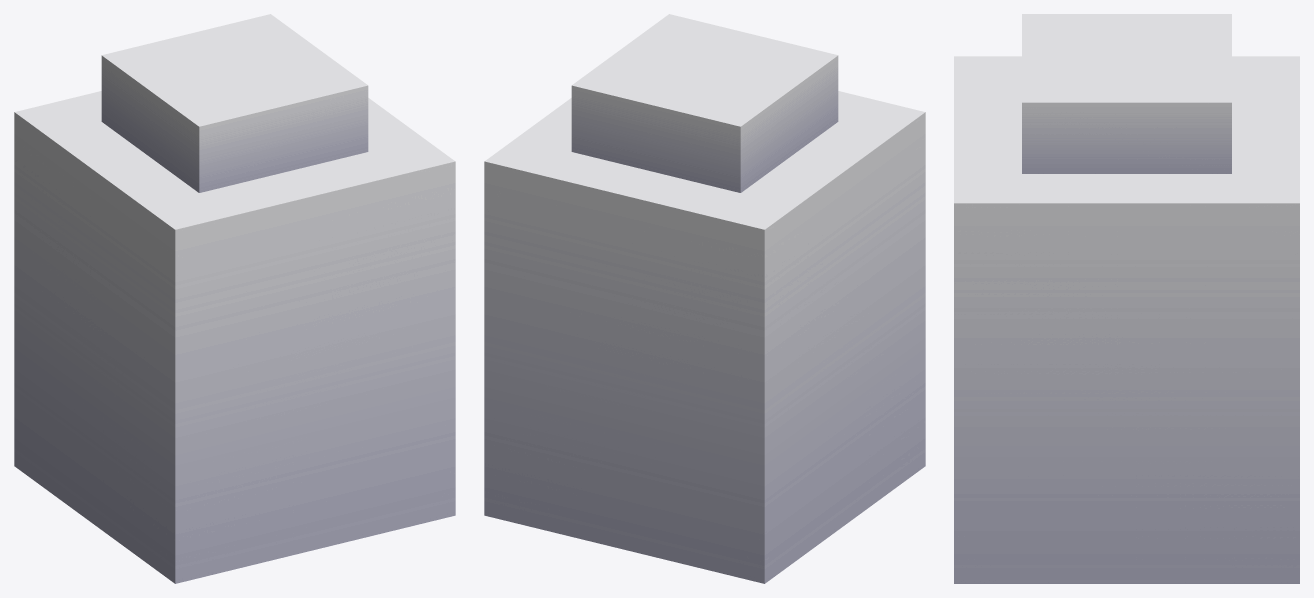
The model's file is square_lq_brick_1x1.glb.
The picture shows the model from 3 angles, left to right: view 1: azimuth 30°, elevation 25°; view 2: azimuth 150°, elevation 25°; view 3: azimuth 270°, elevation 25°; orthographic projection. The views are drawn at different scales.
Parts seen in each view (by area): view 1: square-lq-brick-1x1; view 2: square-lq-brick-1x1; view 3: square-lq-brick-1x1.
Boxes of the visible parts, x1,y1,x2,y2 form: square-lq-brick-1x1: (14,14,455,583); square-lq-brick-1x1: (484,14,925,583); square-lq-brick-1x1: (954,14,1299,583).
Bounding box in the file's own units: 0.0795 × 0.114 × 0.079.
1 material, 1 textured.
